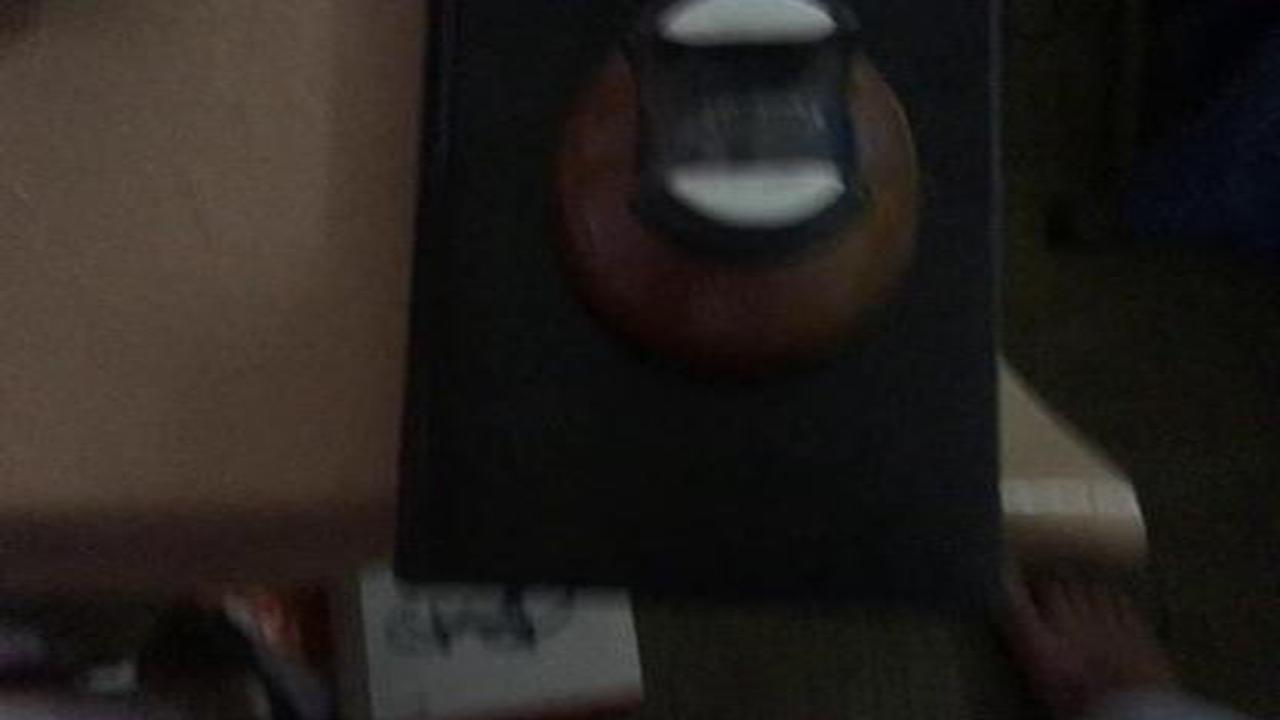insulator_pin: (527, 5, 936, 380)
